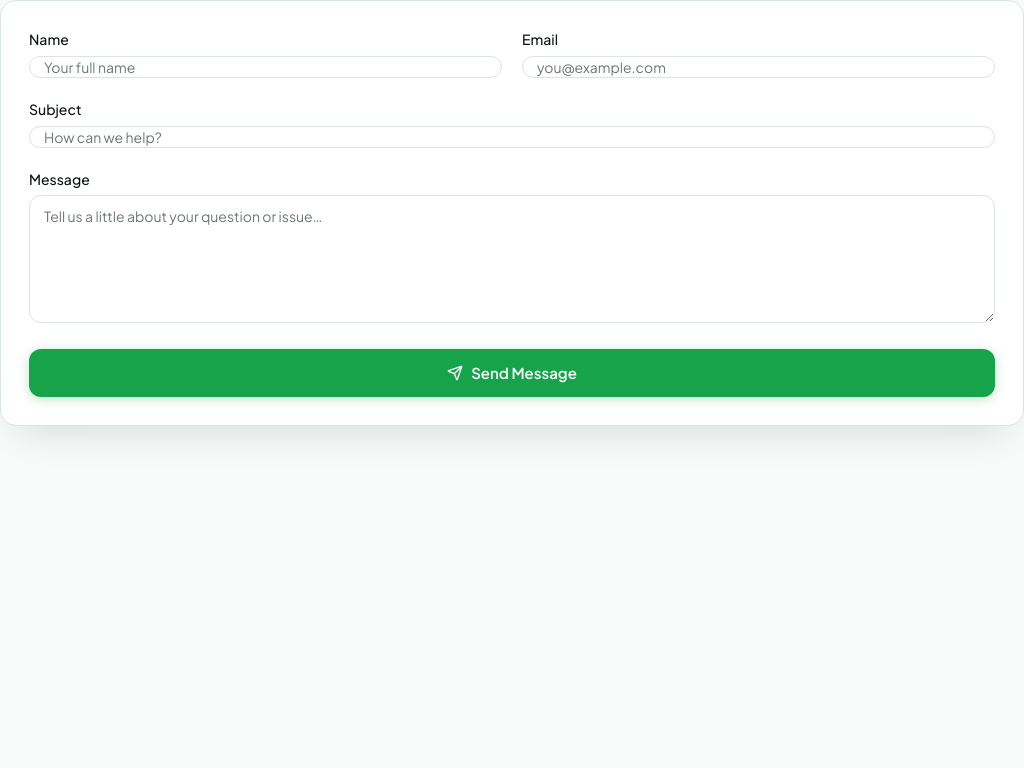
ContactForm › shows an honest error and offers a mailto fallback when no backend is connected
This screenshot has width=1024, height=768.
In the field labelled "Name": (266,67) 29,56 -> 502,78, type "Ada Obi"
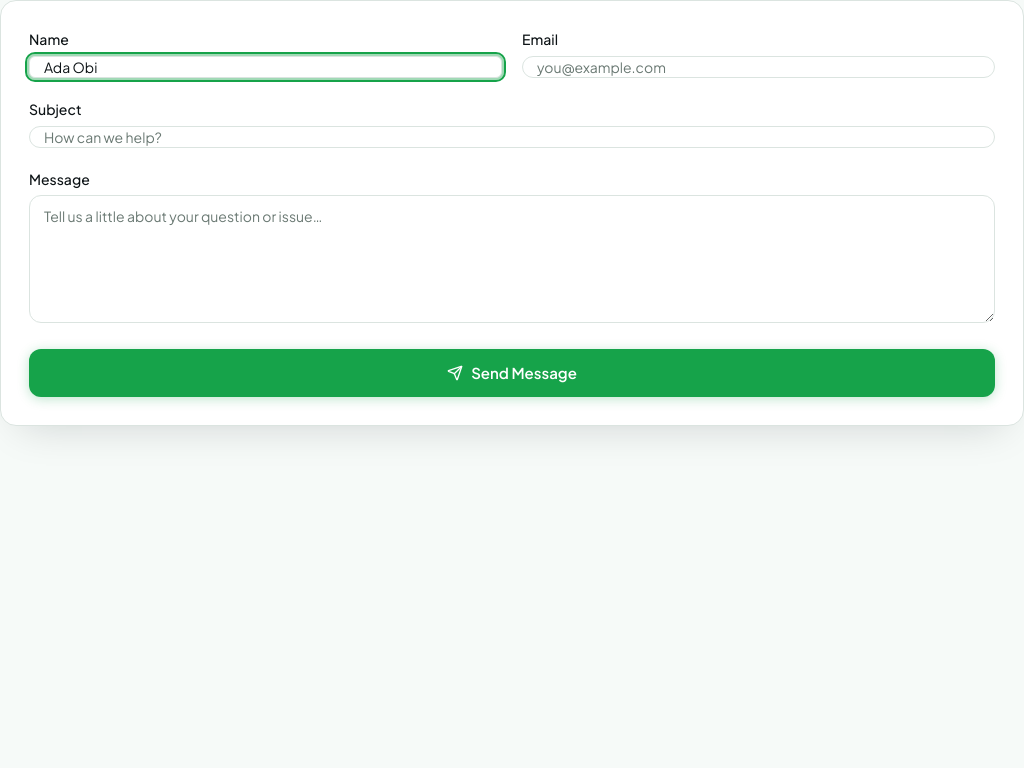
In the field labelled "Email": (758,67) 522,56 -> 995,78, type "ada.obi@example.com"
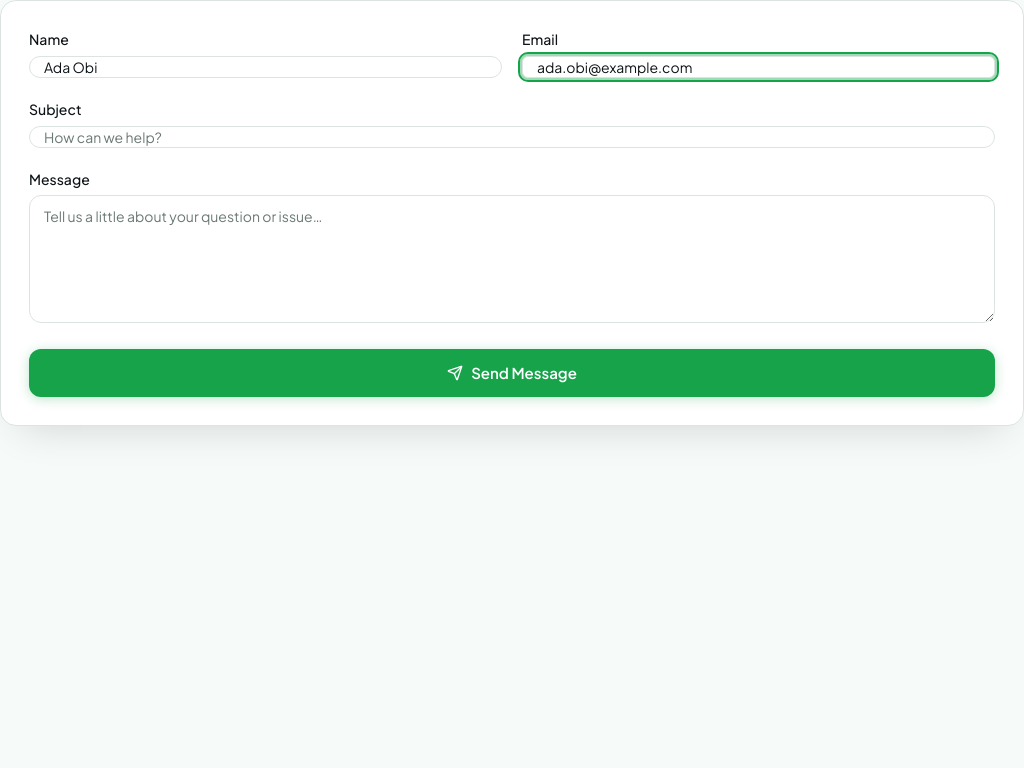
In the field labelled "Subject": (512,137) 29,126 -> 995,148, type "Wallet funding help"
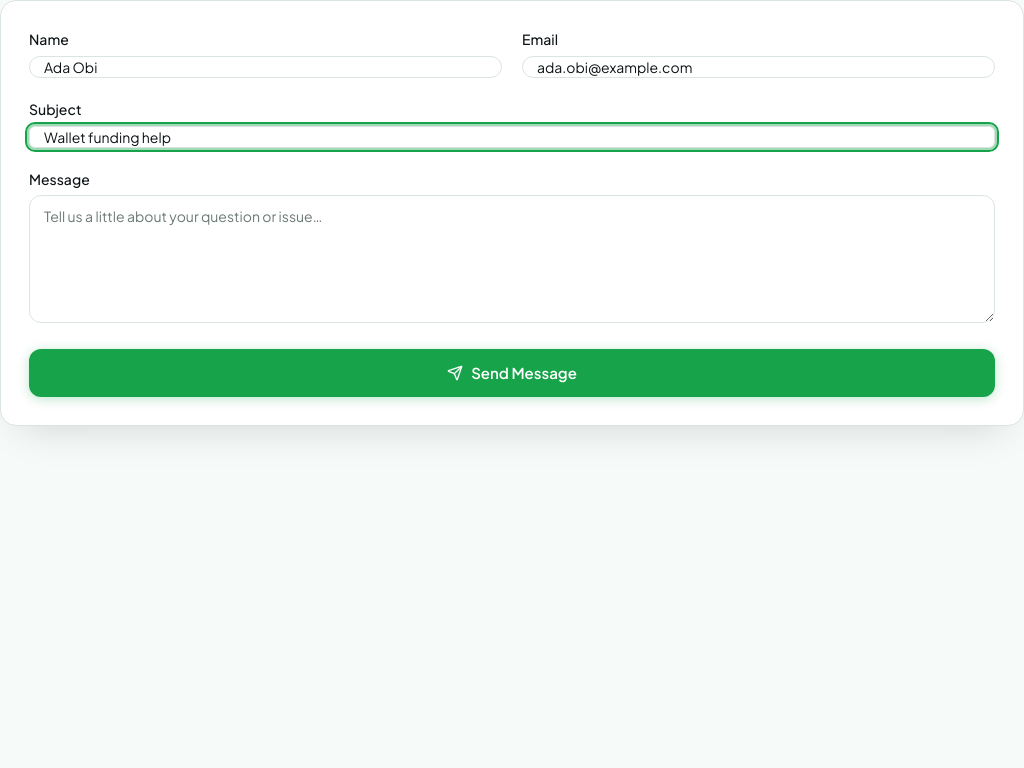
In the text box labelled "Message": (512,259) 29,195 -> 995,323, type "Hi LonePay, I transferred to my virtual account but the funds have not reflected yet. Please help."
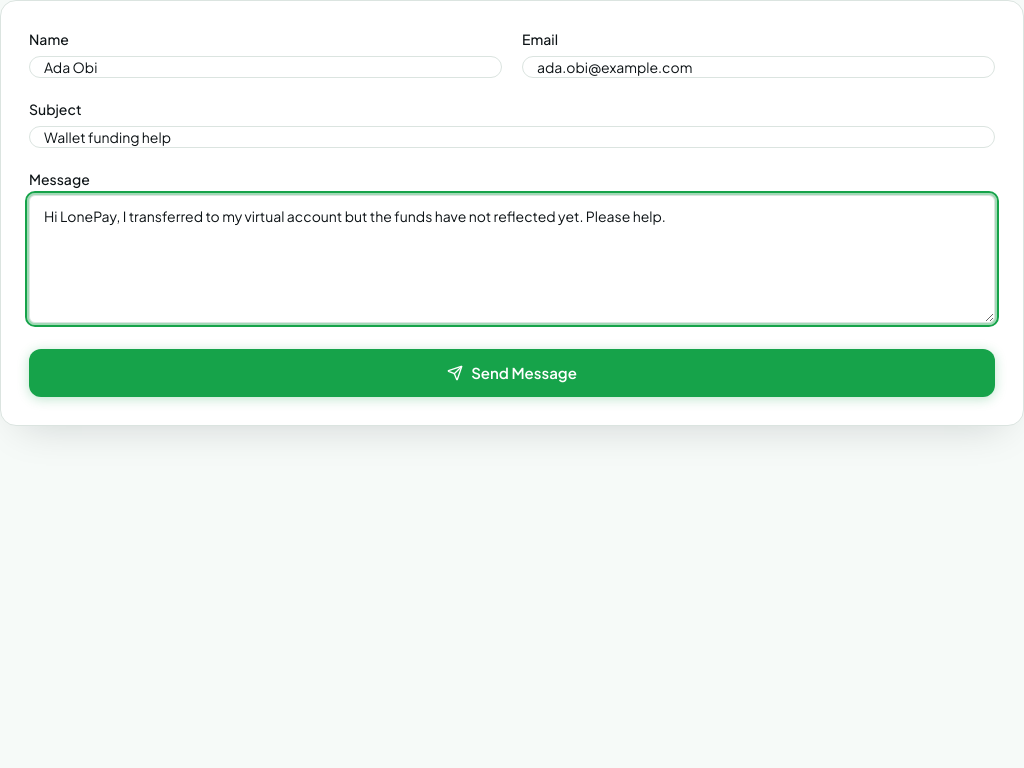
Click the button "Send Message": (512,373) 29,349 -> 995,397
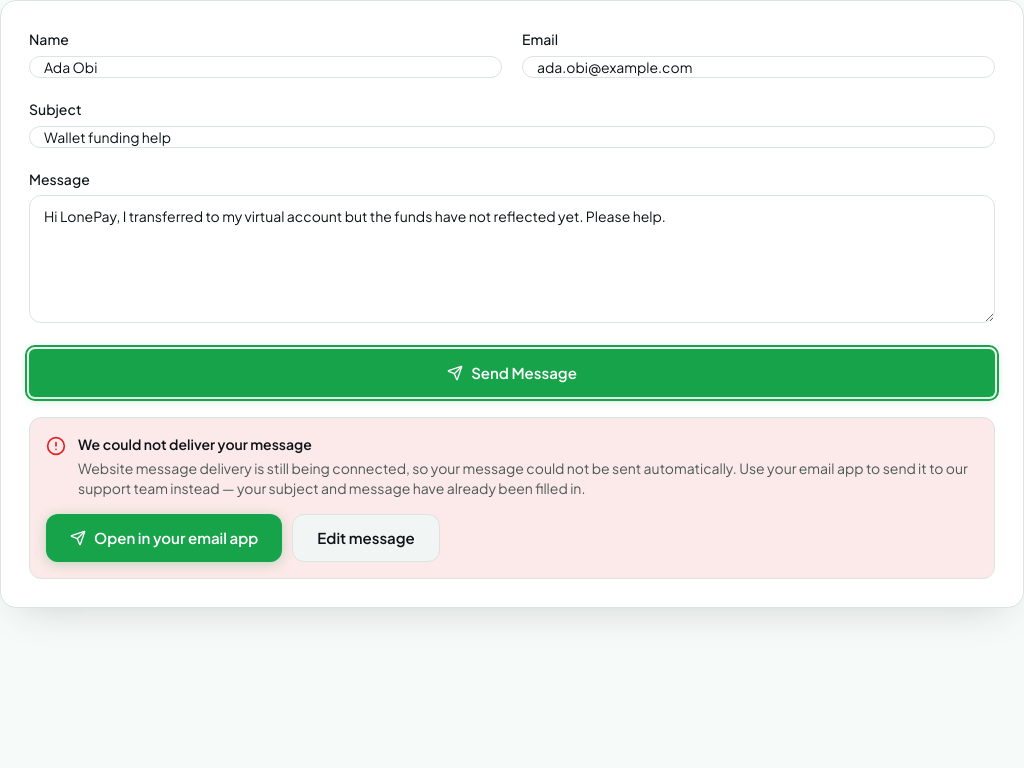
expect the text "We could not deliver your message" is shown: met, box 78,435 -> 312,453
